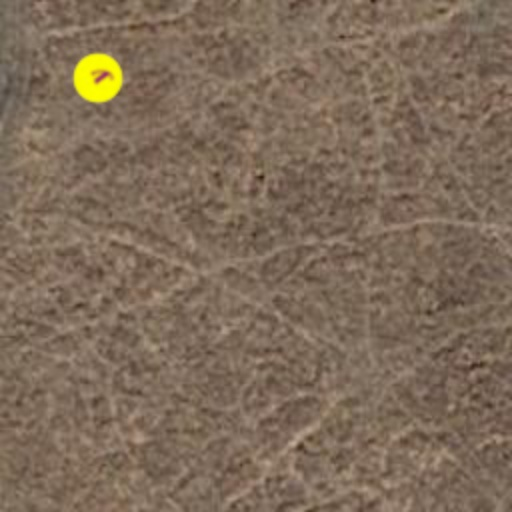circle: (64, 44, 132, 112)
